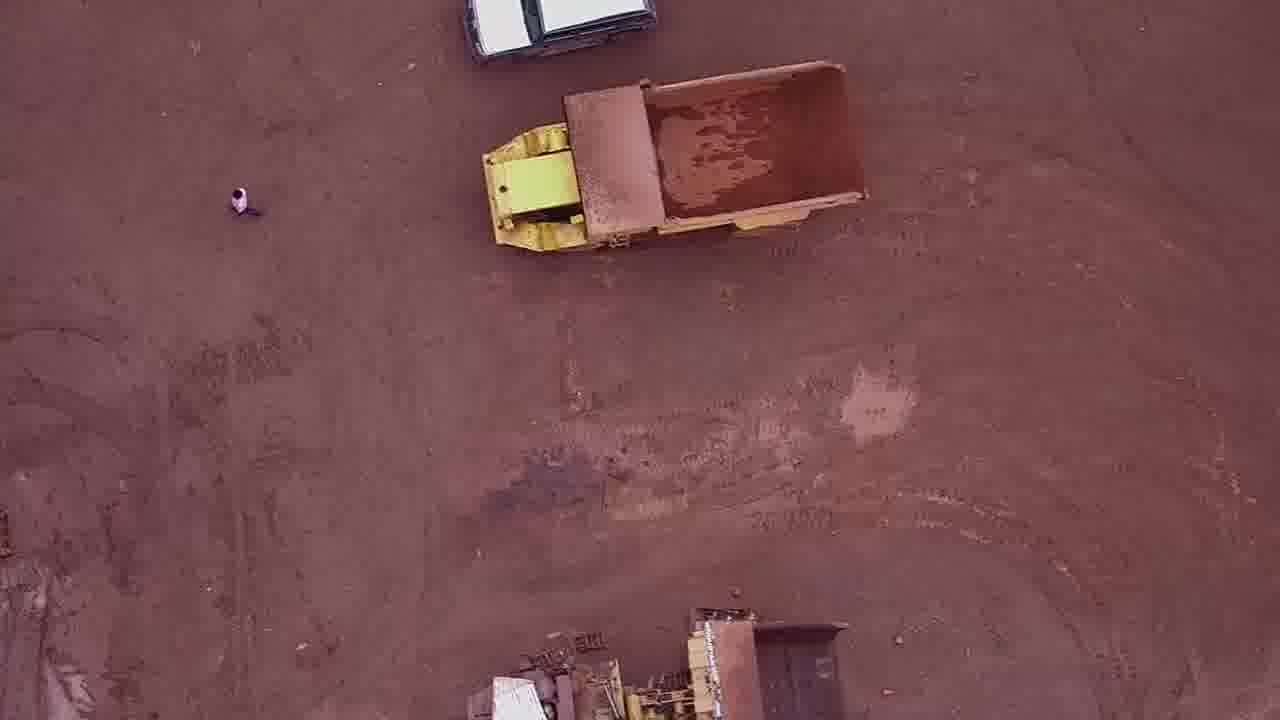HMV: (467, 59, 873, 261)
LMV: (451, 1, 656, 69)
Person: (224, 179, 262, 225)
